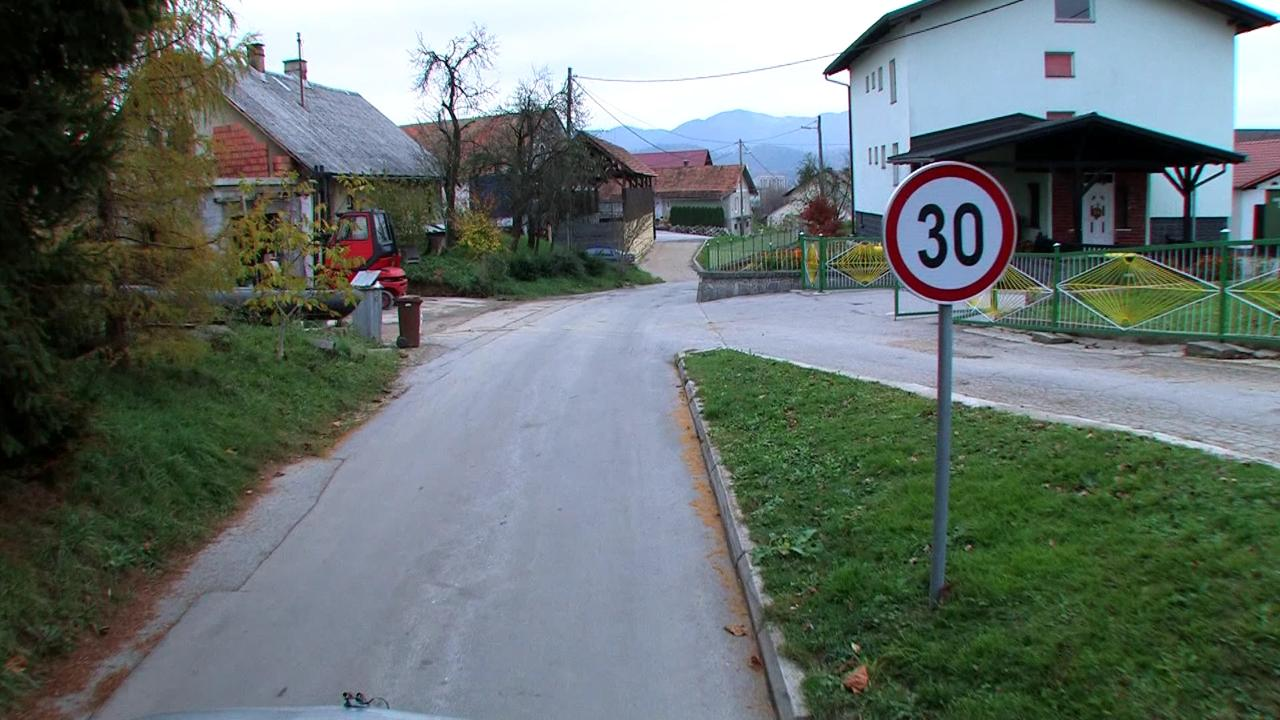Round: (884, 160, 1018, 306)
